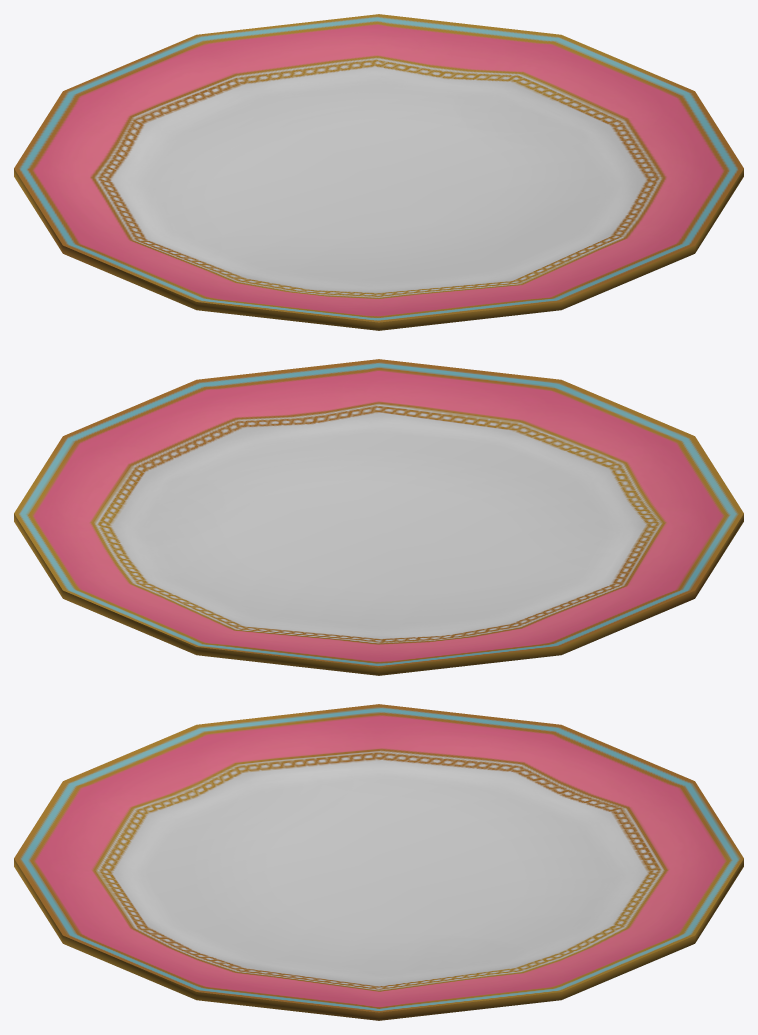
The model's file is DishB.fbx.
3 views of the same model, one above another, from view 1: azimuth 30°, elevation 25°; view 2: azimuth 150°, elevation 25°; view 3: azimuth 270°, elevation 25° (orthographic).
Parts seen in each view (by area): view 1: Empty_Mesh; view 2: Empty_Mesh; view 3: Empty_Mesh.
Boxes of the visible parts, x1,y1,x2,y2 form: Empty_Mesh: [14, 14, 743, 330]; Empty_Mesh: [14, 359, 743, 675]; Empty_Mesh: [14, 704, 743, 1020].
Bounding box in the file's own units: 0.56 × 0.0455 × 0.56.
